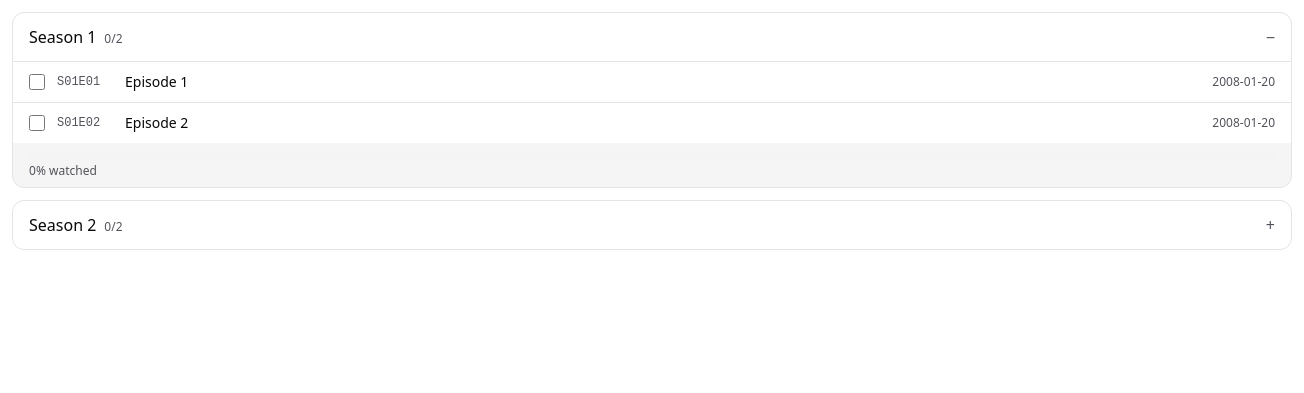
Test: SeasonAccordion › expands the first season by default and toggles the others
The image size is (1304, 393).
Step 1. Click the button "Season 20/2 +" → (63, 225), box [13, 201, 1291, 249]
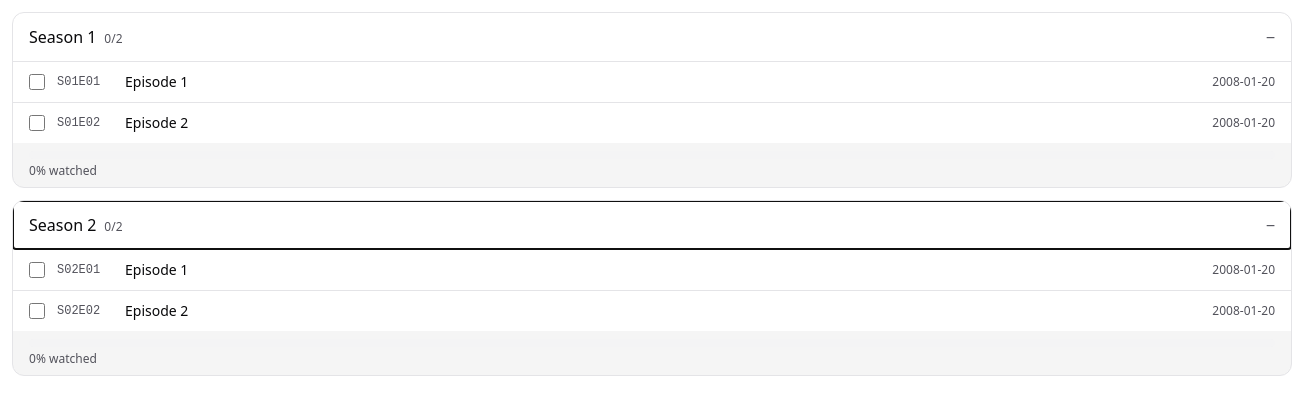
Expected: the button "Season 20/2 −" is expanded, [13, 201, 1291, 249]
